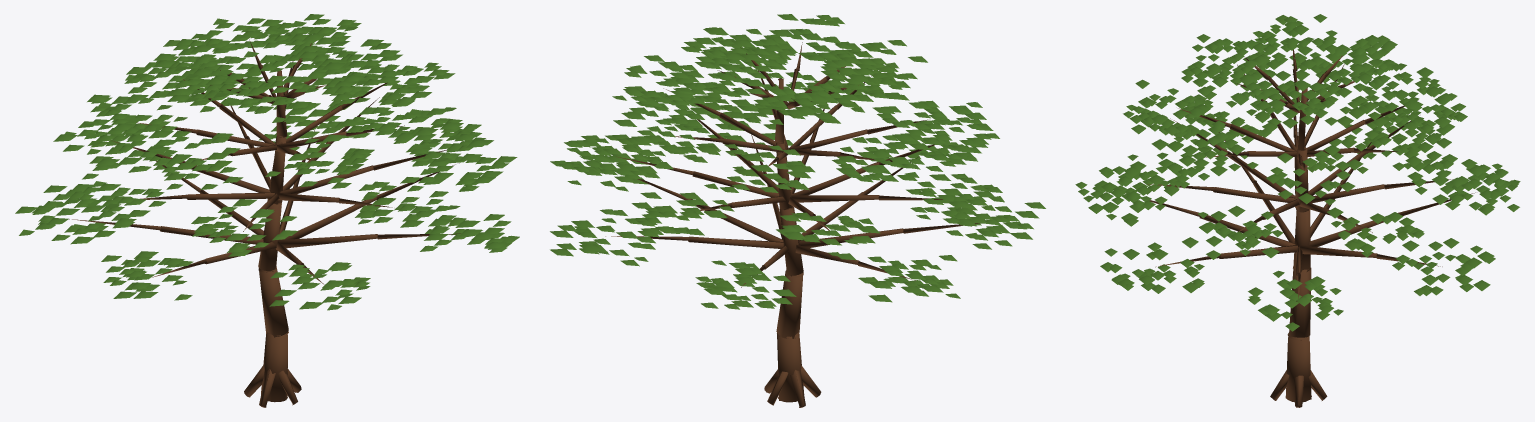
The model's file is CP10a-broadleaf-LOD1.glb.
3 renders of one model, left to right at view 1: azimuth 30°, elevation 25°; view 2: azimuth 150°, elevation 25°; view 3: azimuth 270°, elevation 25°, orthographic. The views are drawn at different scales.
Parts seen in each view (by area): view 1: CP10a-broadleaf; view 2: CP10a-broadleaf; view 3: CP10a-broadleaf.
Part boxes in pixels (box(x1,y1,x2,y2)): CP10a-broadleaf: box(15, 14, 519, 407); CP10a-broadleaf: box(550, 14, 1045, 407); CP10a-broadleaf: box(1075, 14, 1520, 407).
Size of the model in its own units: 14.5 by 10.76 by 12.81.
